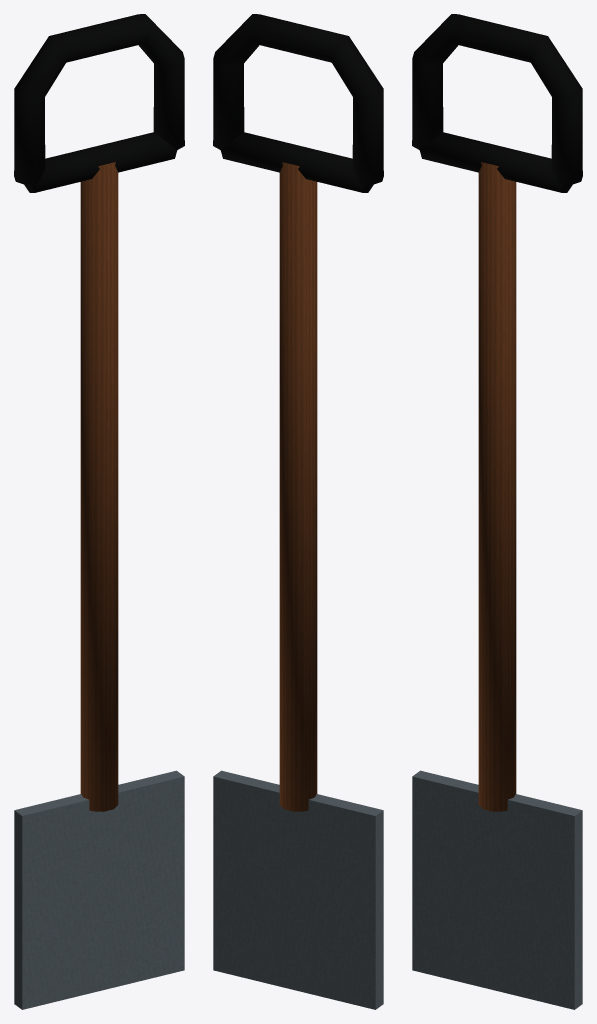
The model's file is GardenSpade.gltf.
3 renders of one model, left to right at view 1: azimuth 30°, elevation 25°; view 2: azimuth 150°, elevation 25°; view 3: azimuth 330°, elevation 25°, orthographic.
Parts seen in each view (by area): view 1: GardenSpade__Body; view 2: GardenSpade__Body; view 3: GardenSpade__Body.
Boxes of the visible parts, x1,y1,x2,y2 form: GardenSpade__Body: (14,14,184,1009); GardenSpade__Body: (213,14,383,1009); GardenSpade__Body: (412,14,582,1009).
Bounding box in the file's own units: 0.1848 × 1.01 × 0.0346.
1 material, 1 textured.
